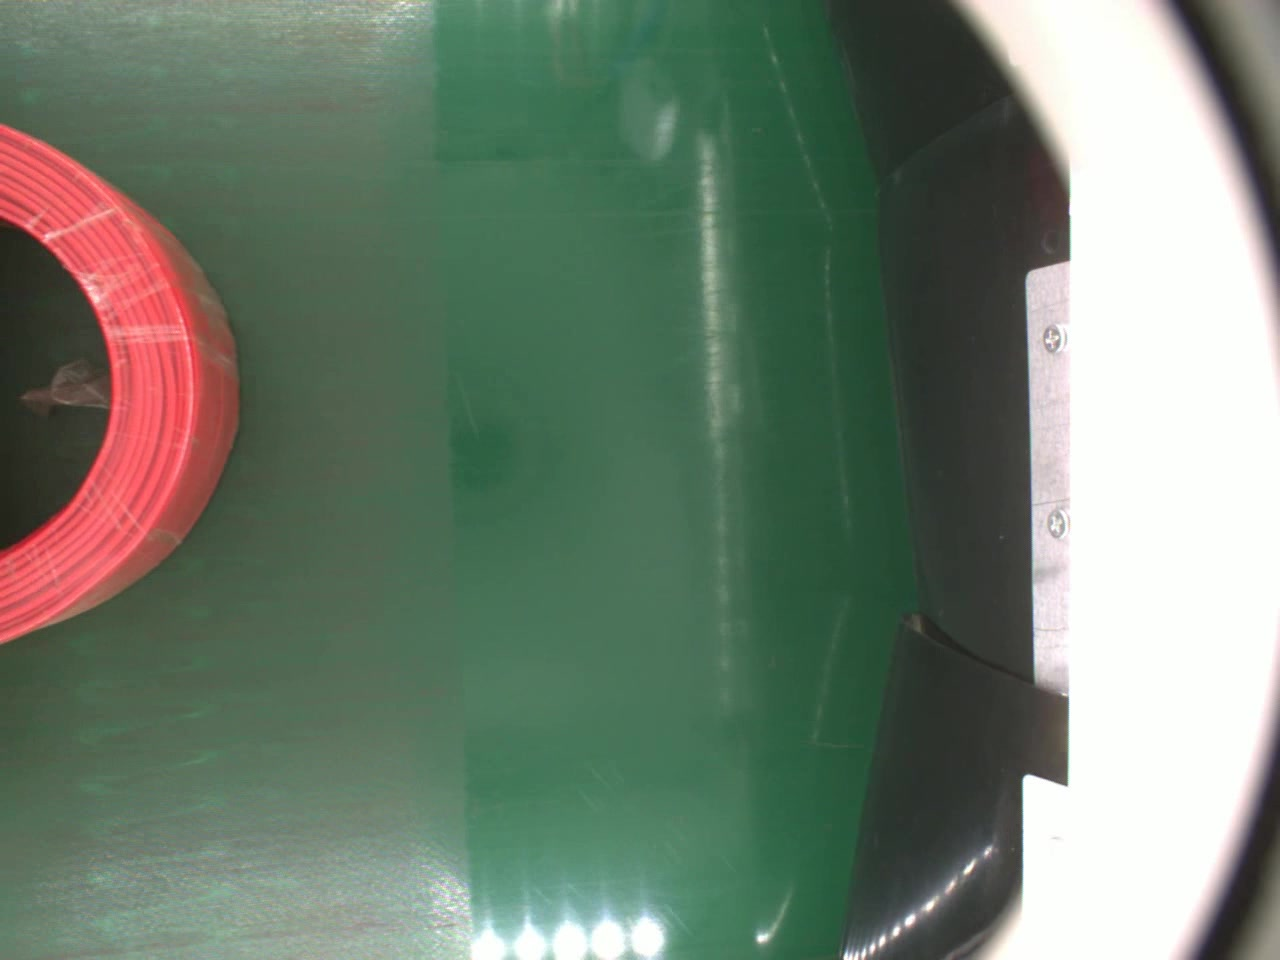red: (0, 125, 242, 645)
